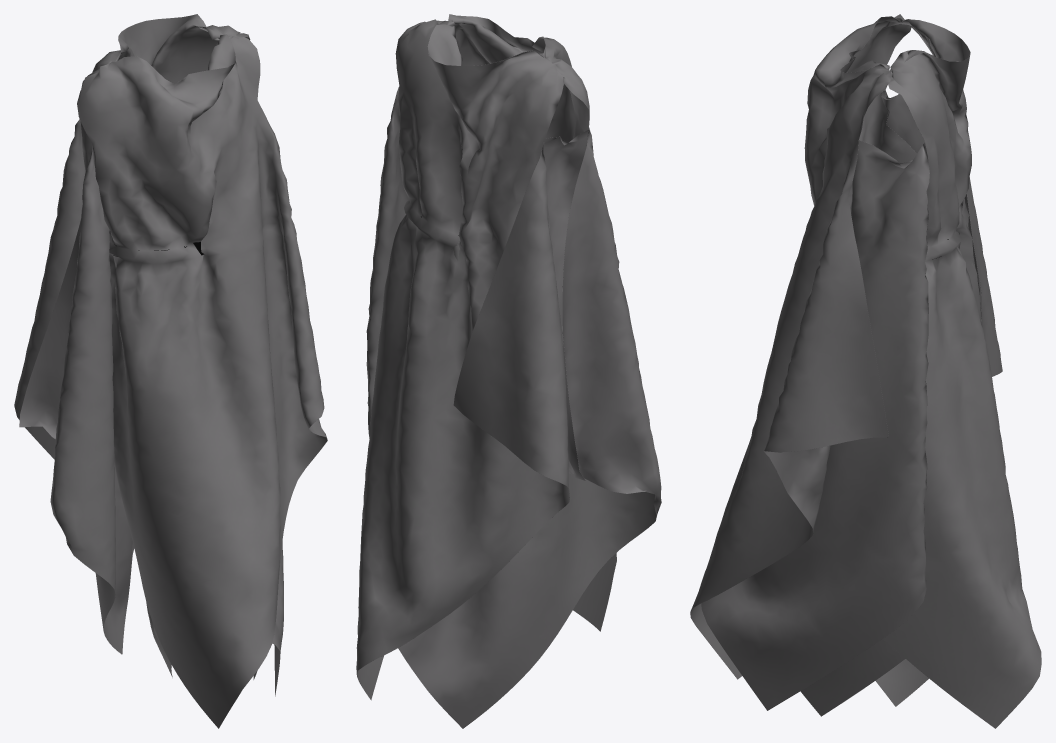
The picture shows the model from 3 angles, left to right: view 1: azimuth 30°, elevation 25°; view 2: azimuth 150°, elevation 25°; view 3: azimuth 270°, elevation 25°; orthographic projection. The views are drawn at different scales.
Parts seen in each view (by area): view 1: Cloth; view 2: Cloth; view 3: Cloth.
Boxes of the visible parts, x1,y1,x2,y2 form: Cloth: (14,14,327,728); Cloth: (356,14,661,728); Cloth: (690,14,1041,728).
Bounding box in the file's own units: 0.5391 × 1.33 × 0.6279.
2 materials, 2 textured.
